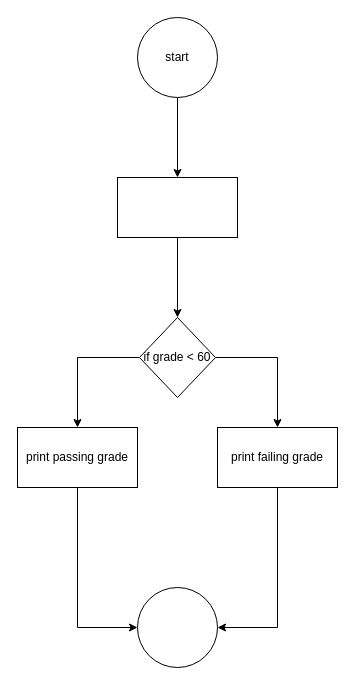
The diagram is 355 pixels wide and 685 high, and some of its shapes have lost their labels. The shapes that lost their labels are listed below. From the top down, each one's centre as x and y in pixels, then its label:
At [177,207]: "Enter Grade".
At [177,627]: "end".
